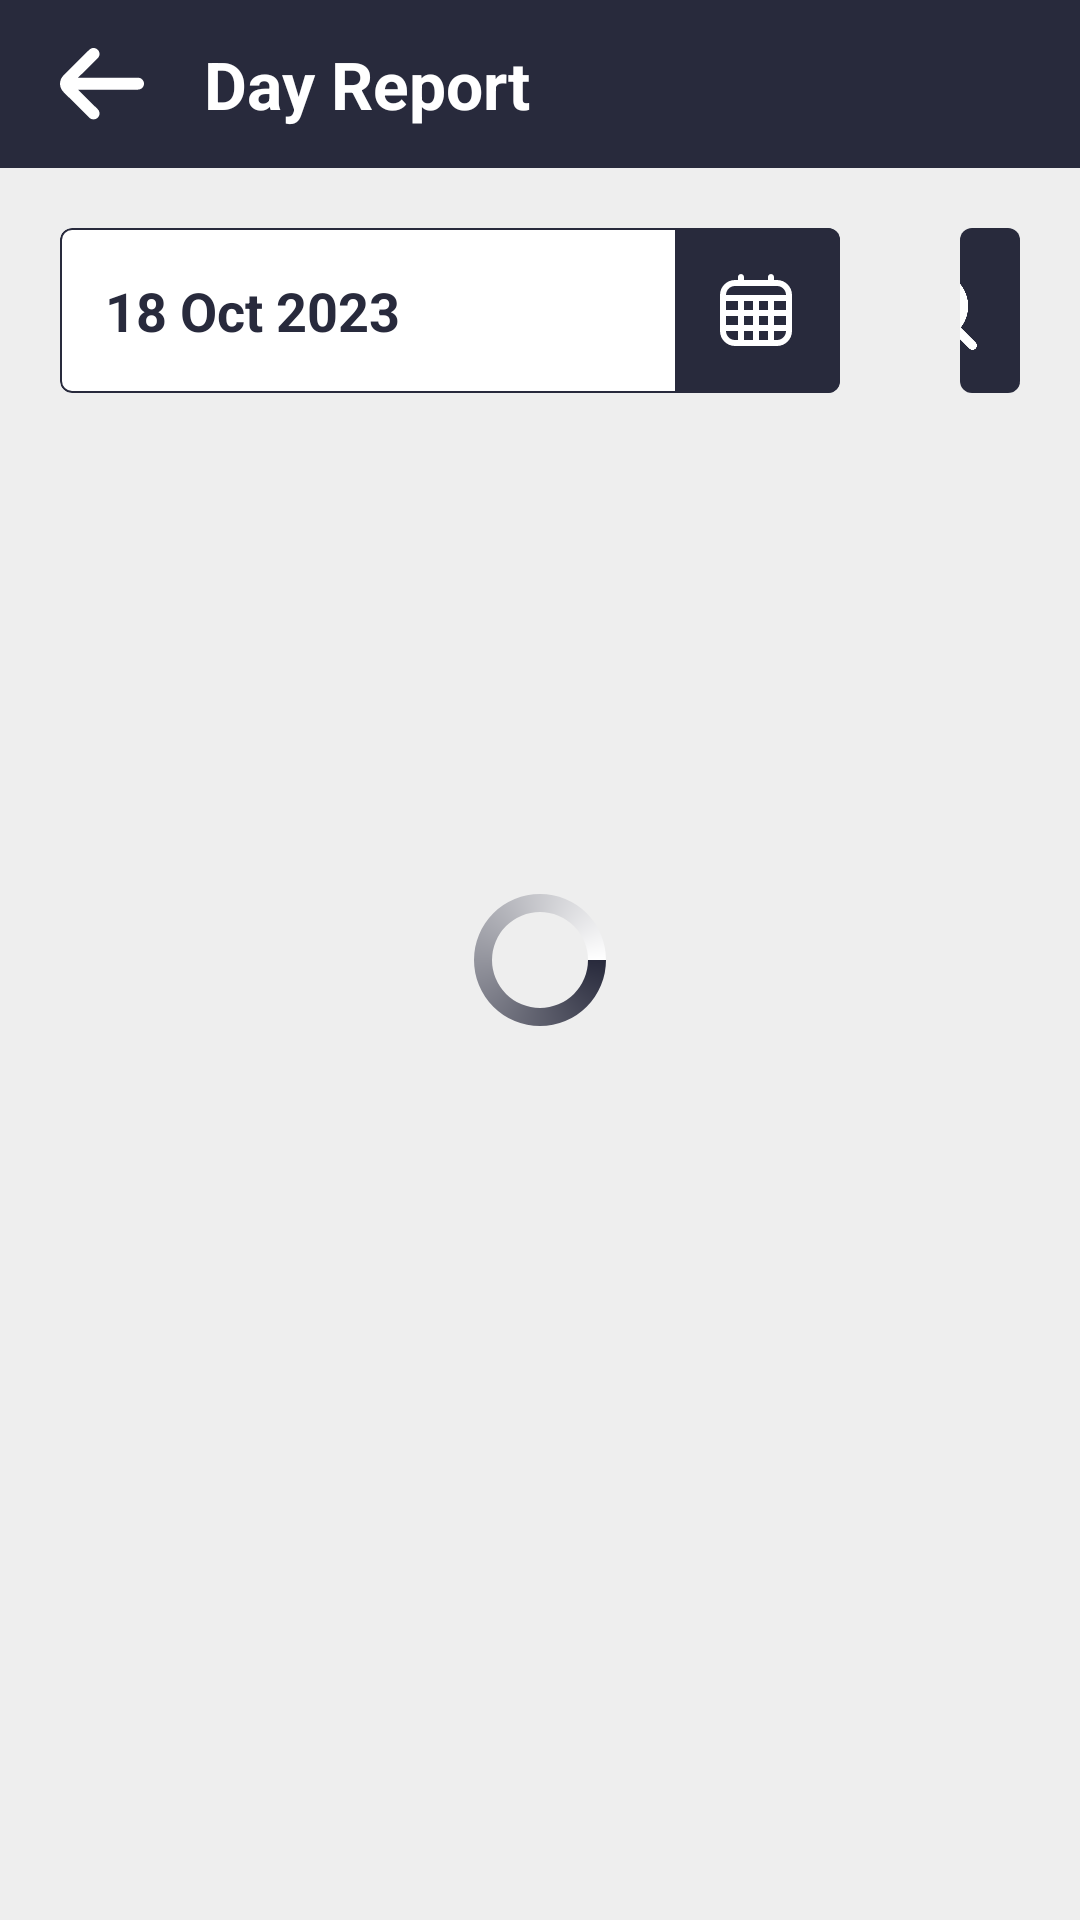

Point at icon controls on the screen. Image size 1080×1920, points as (x,y).
back: (102,84)
calender: (756,310)
